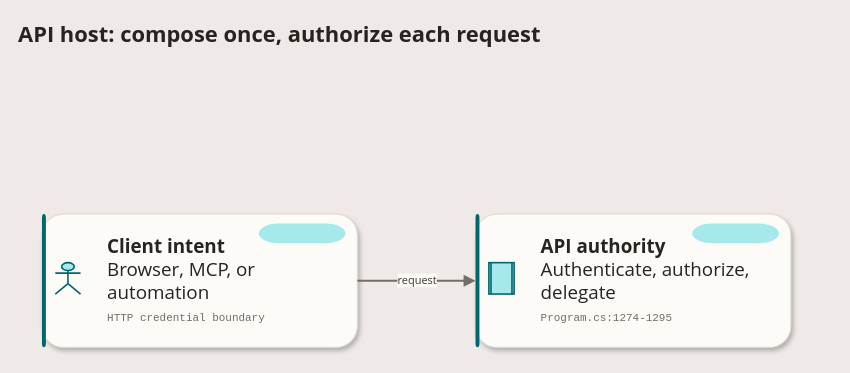
The diagram is 850 pixels wide and 373 high, and some of its shapes have lost their labels. Each missing label, with the centre of its shape:
AUTHORITY: (x=735, y=233)
INTENT: (x=301, y=233)
